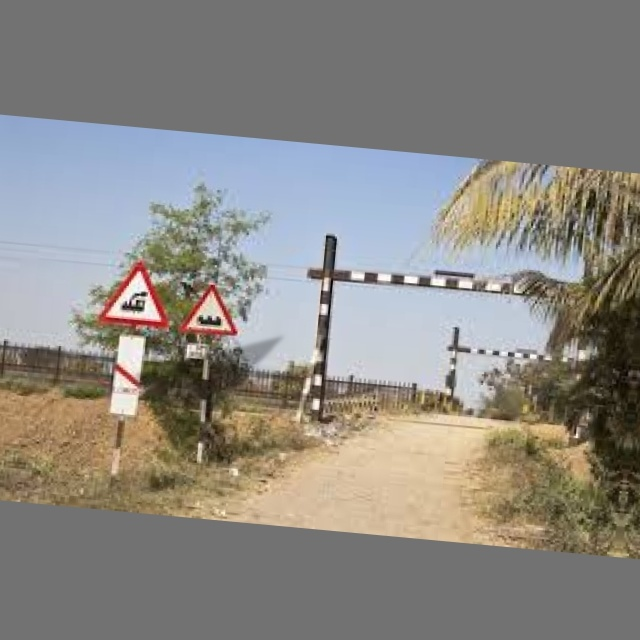Unguarded_Level_Crossing: (100, 250, 174, 336)
